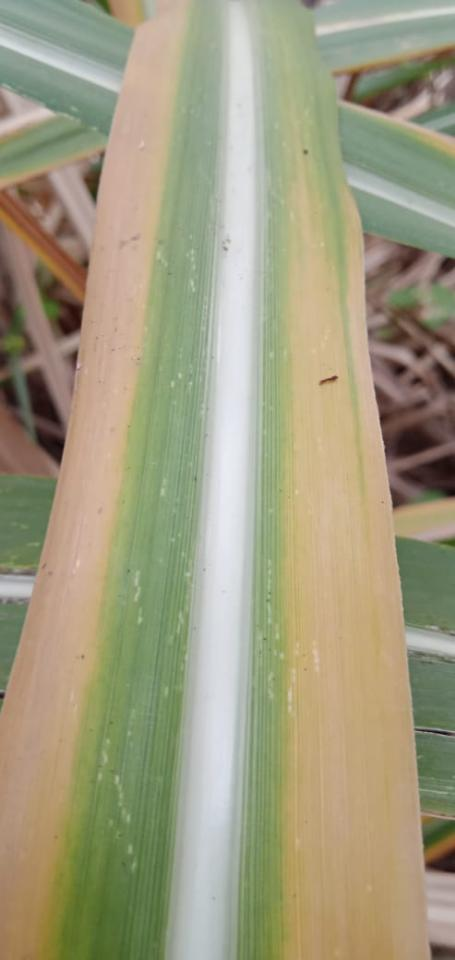Rust: (118, 231, 141, 250), (317, 374, 340, 387), (225, 234, 232, 244), (302, 149, 310, 156), (41, 561, 48, 569), (97, 507, 103, 515), (81, 652, 86, 661), (222, 246, 229, 252), (47, 572, 53, 577), (222, 241, 225, 245)
Yellow: (0, 0, 192, 959), (285, 138, 432, 959)
